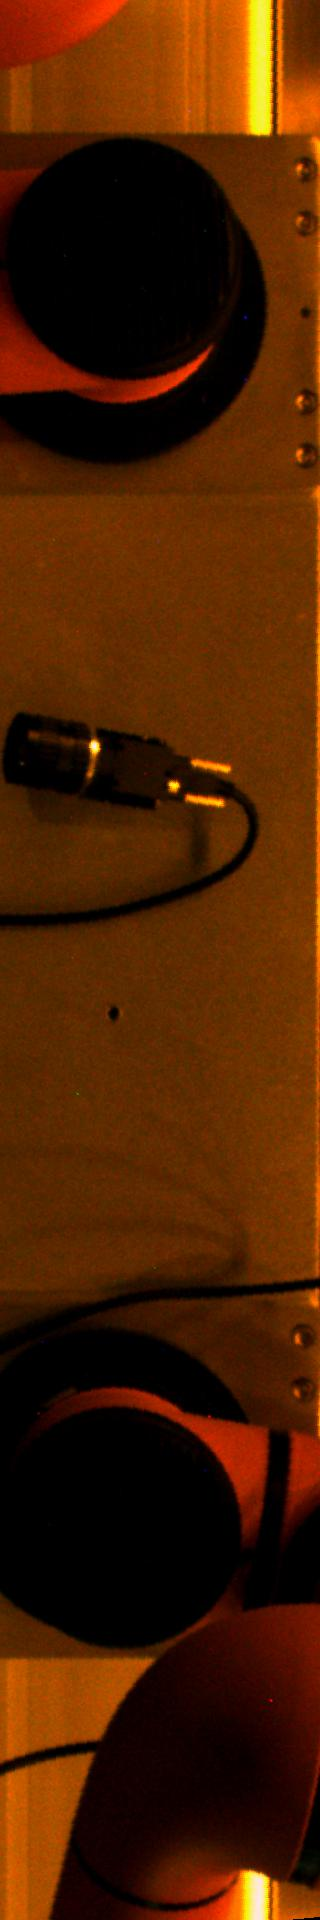keyPoint_2: (98, 998, 128, 1029)
